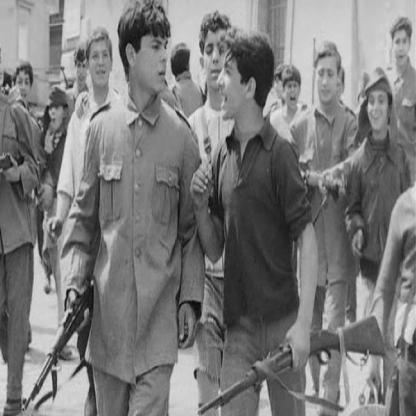Gun: (193, 310, 385, 415), (18, 274, 97, 415), (304, 156, 347, 208)
